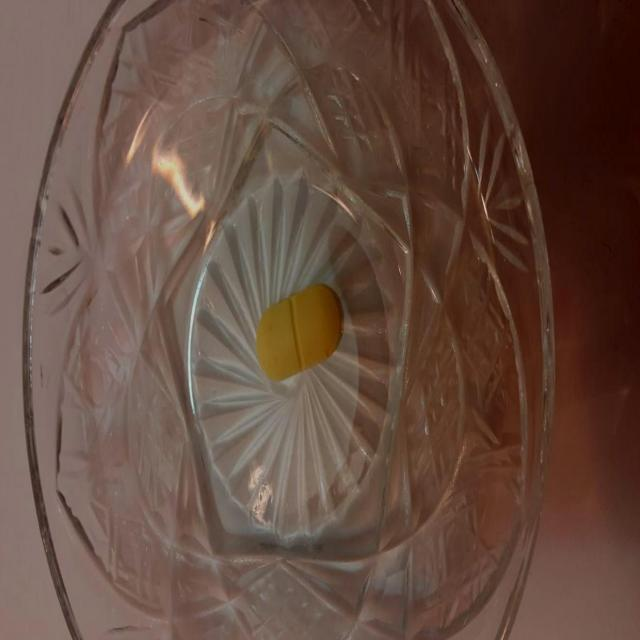pill: (257, 278, 343, 383)
